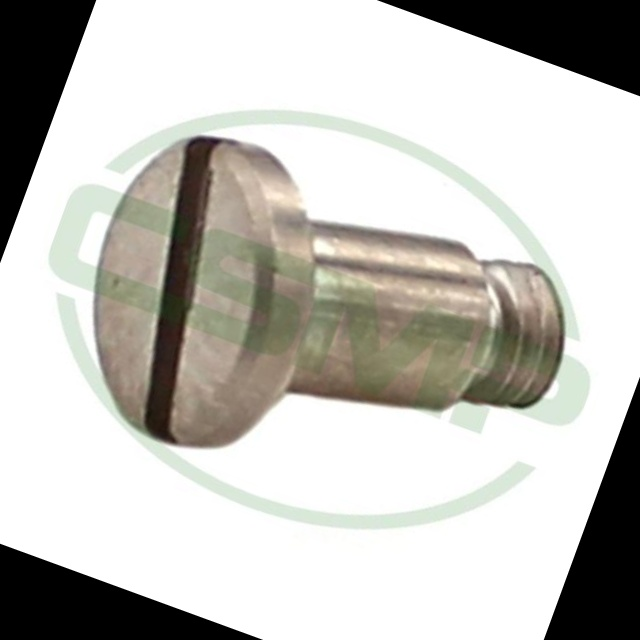duz: (41, 103, 358, 477)
